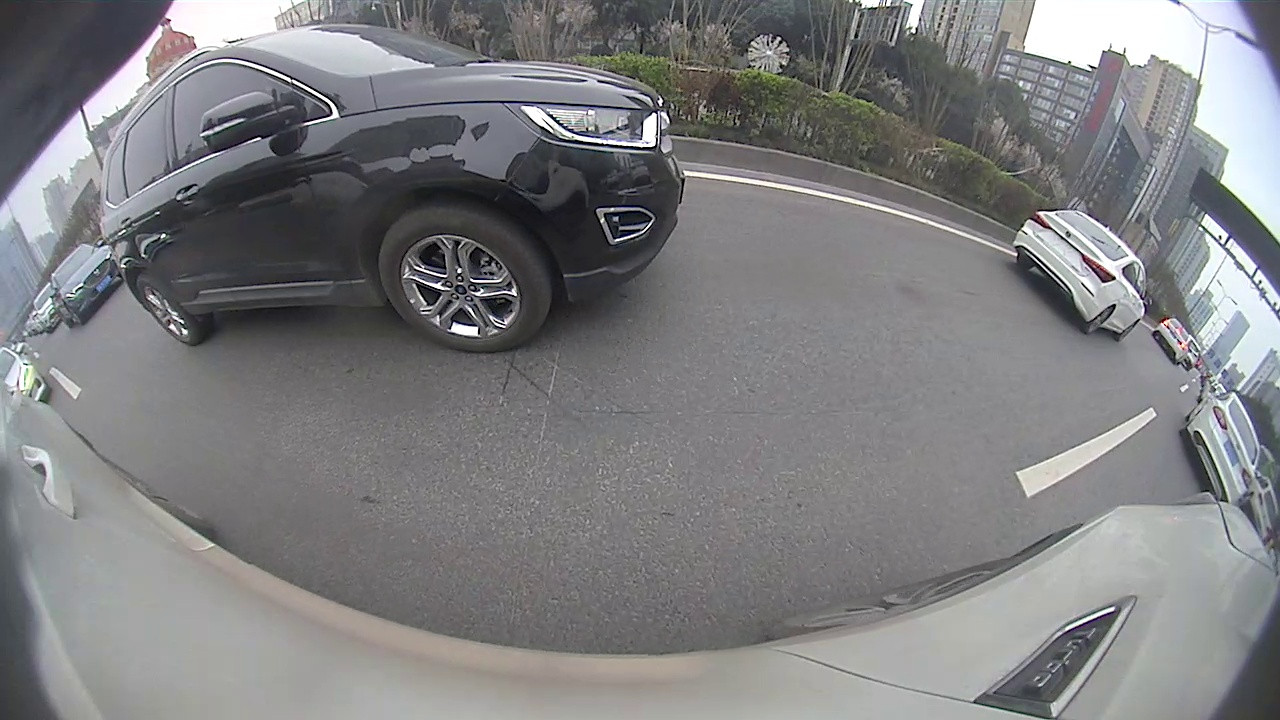car: (98, 22, 687, 355), (1012, 210, 1153, 343), (1178, 389, 1261, 503), (48, 243, 122, 328), (1154, 318, 1192, 366)
front: (380, 207, 551, 350)
rear: (135, 274, 194, 345), (1086, 306, 1115, 334)
